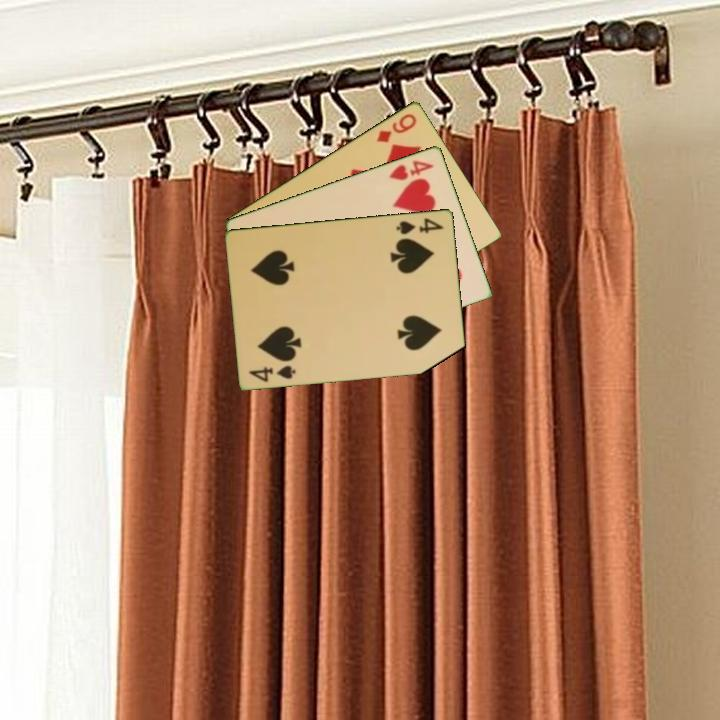4h: (386, 156, 437, 183)
4s: (245, 361, 299, 385), (393, 214, 447, 237)
9d: (373, 110, 420, 145)
